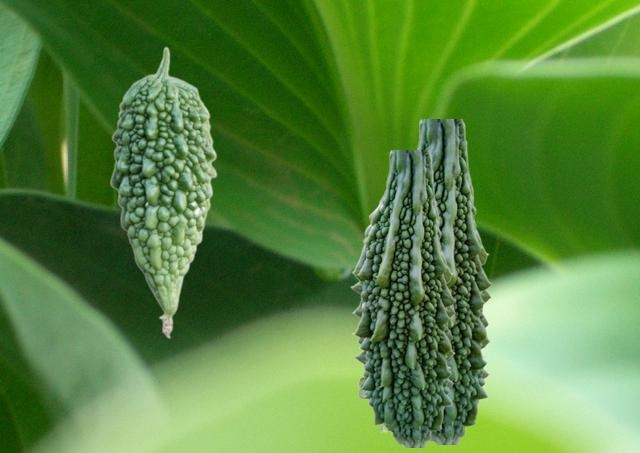ampalaya: (109, 46, 216, 338), (350, 150, 455, 446), (416, 119, 491, 443)
